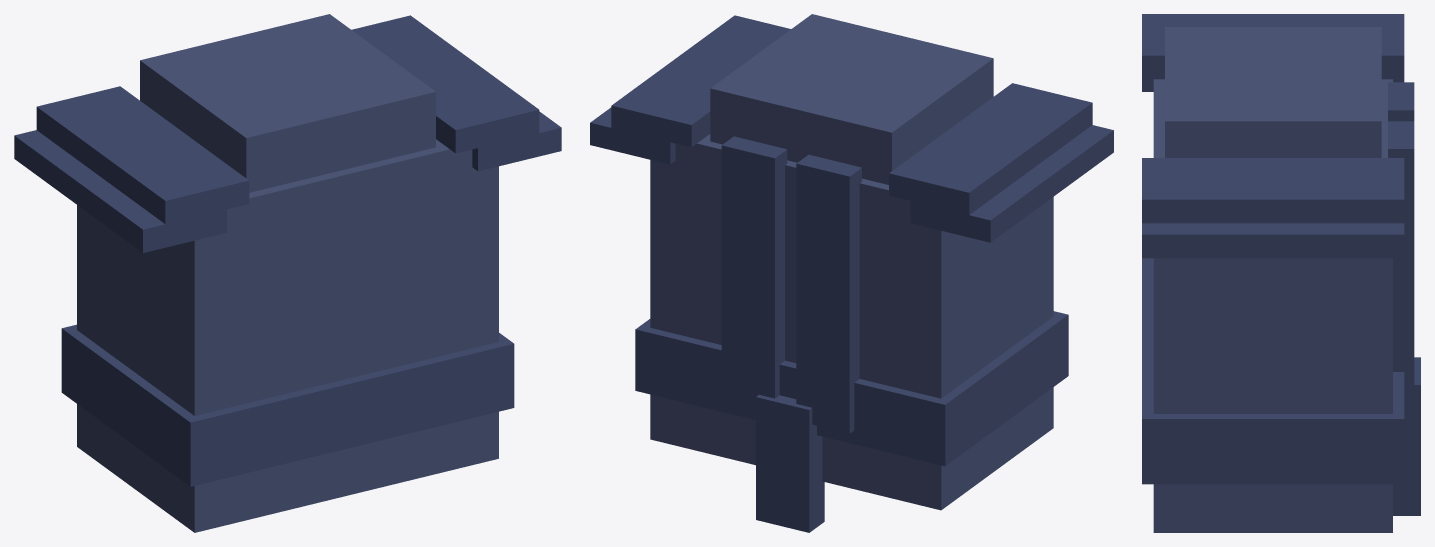
The model's file is ninja_tronco.glb.
3 renders of one model, left to right at view 1: azimuth 30°, elevation 25°; view 2: azimuth 150°, elevation 25°; view 3: azimuth 270°, elevation 25°, orthographic. The views are drawn at different scales.
Visible parts, largest first — view 1: ninja_tronco; view 2: ninja_tronco; view 3: ninja_tronco.
Boxes of the visible parts, x1,y1,x2,y2 form: ninja_tronco: (14,14,561,532); ninja_tronco: (590,14,1113,532); ninja_tronco: (1142,14,1420,532).
Bounding box in the file's own units: 0.75 × 0.72 × 0.425.
